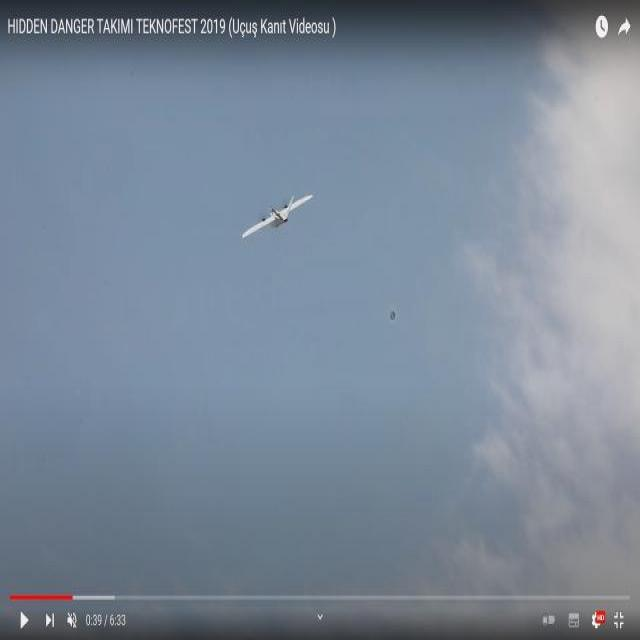iha: (272, 190, 284, 244)
